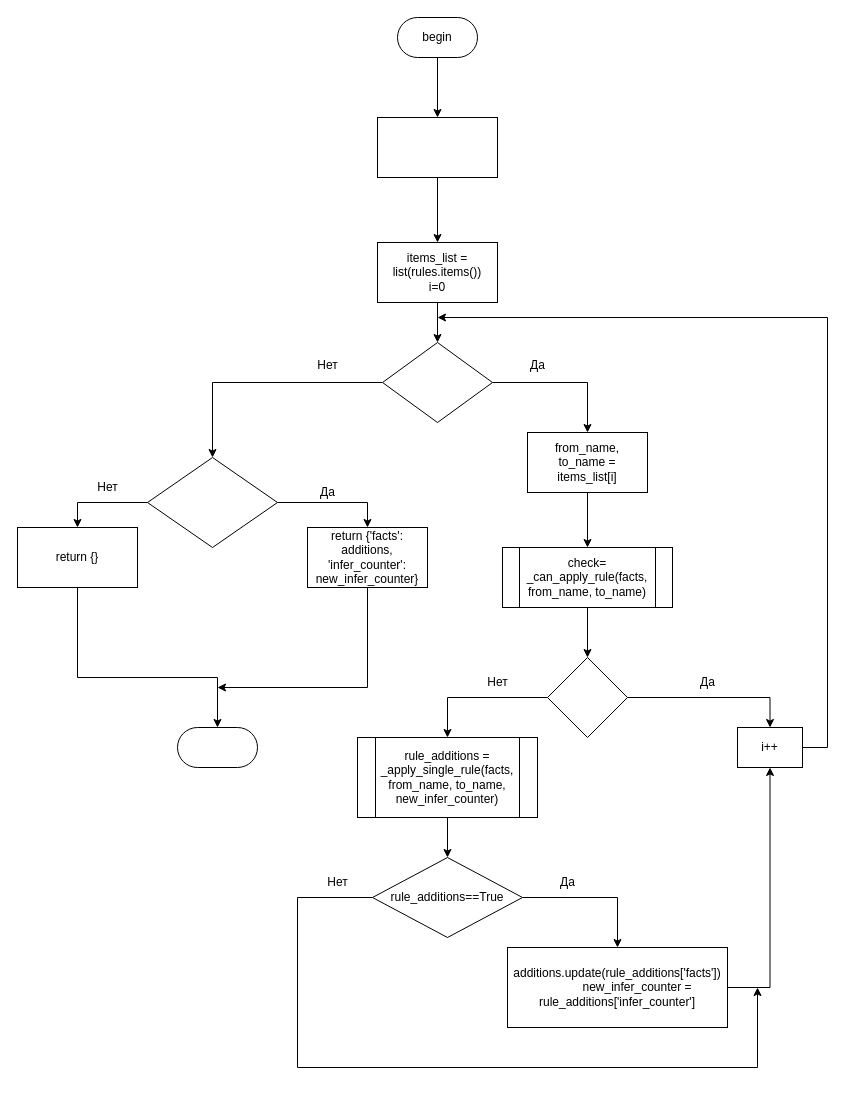
Image size: 853x1093. Some labels were removed from this diagram. The shapes that lost their labels are listed below. From the top down, each one's centre as x and y in pixels, then its label:
[437,147]: additions = {} new_infer_counter = infer_counter
[437,382]: i<len(items_list)
[212,502]: len(additions)>0
[587,697]: not check
[217,747]: end
